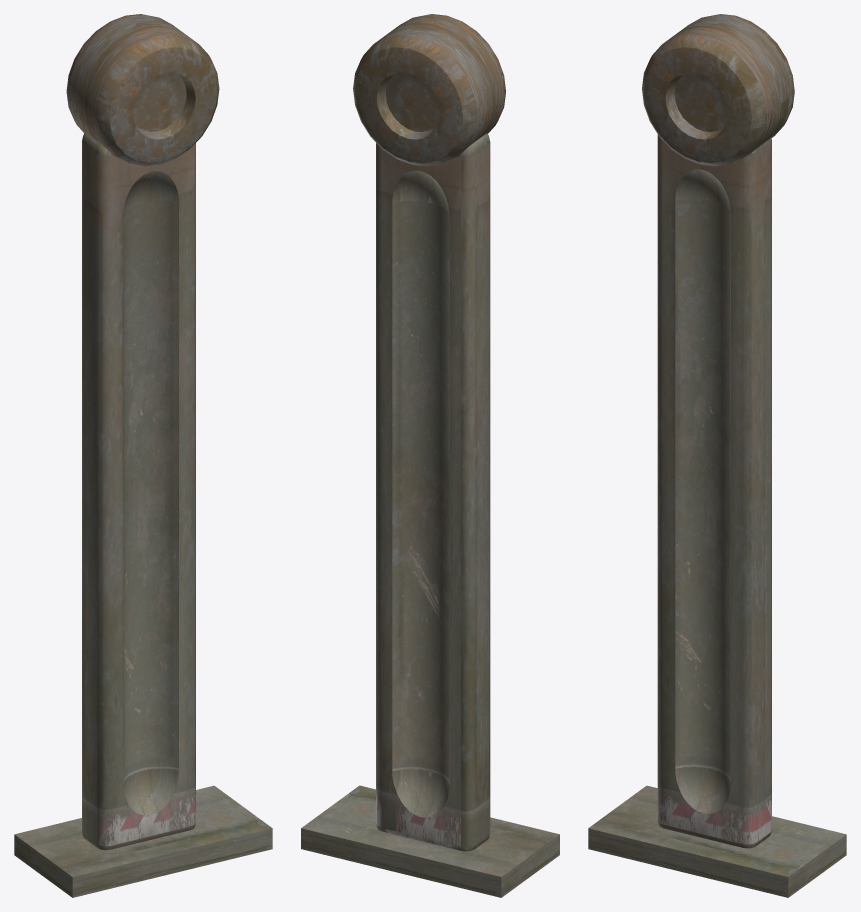
The model's file is shutter_base.obj.
3 renders of one model, left to right at view 1: azimuth 30°, elevation 25°; view 2: azimuth 150°, elevation 25°; view 3: azimuth 330°, elevation 25°, orthographic.
Parts seen in each view (by area): view 1: ChamferBox001, ChamferCyl001, Box024; view 2: ChamferBox001, ChamferCyl001, Box024; view 3: ChamferBox001, ChamferCyl001, Box024.
Boxes of the visible parts, x1,y1,x2,y2 form: ChamferBox001: (82,133,195,850); ChamferCyl001: (66,14,219,166); Box024: (14,785,272,897); ChamferBox001: (376,133,490,851); ChamferCyl001: (353,14,505,166); Box024: (301,785,559,897); ChamferBox001: (657,134,771,848); ChamferCyl001: (642,14,794,166); Box024: (588,785,846,897).
Size of the model in its own units: 0.5591 by 2.2 by 0.2827.
2 materials, 2 textured.
